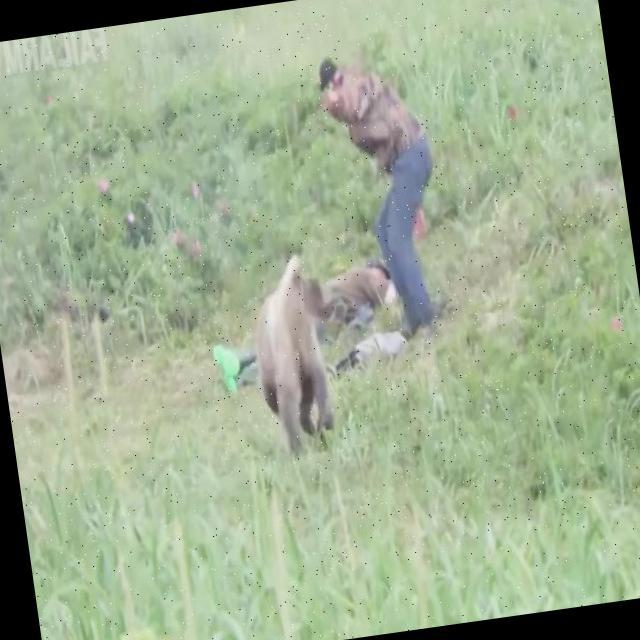person: (313, 45, 456, 349)
